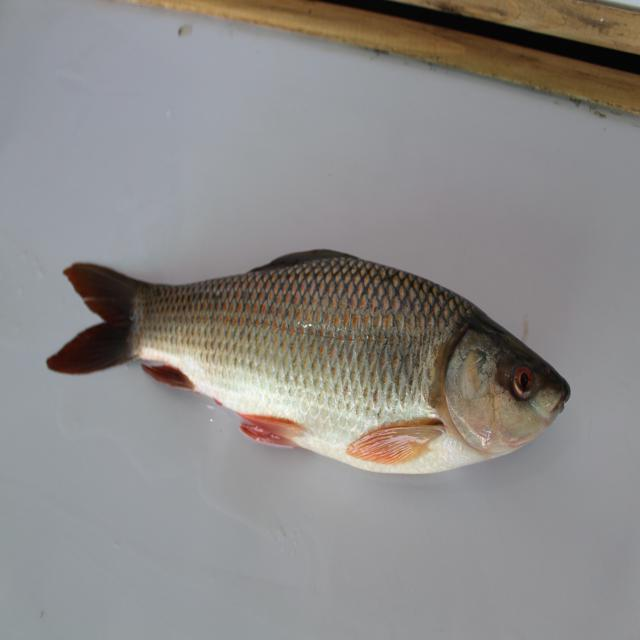Rohu: (41, 258, 593, 505)
